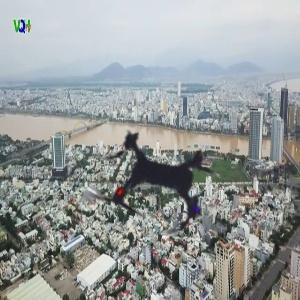drone: (52, 83, 258, 289)
